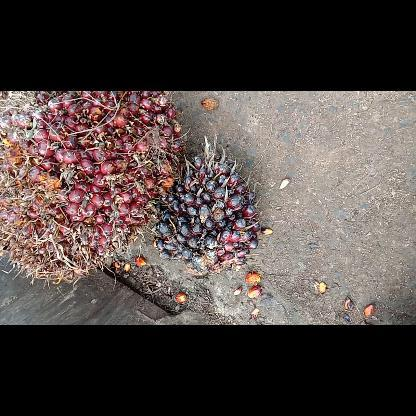TBS abnormal: (152, 133, 260, 269)
TBS masak: (0, 91, 180, 287)
